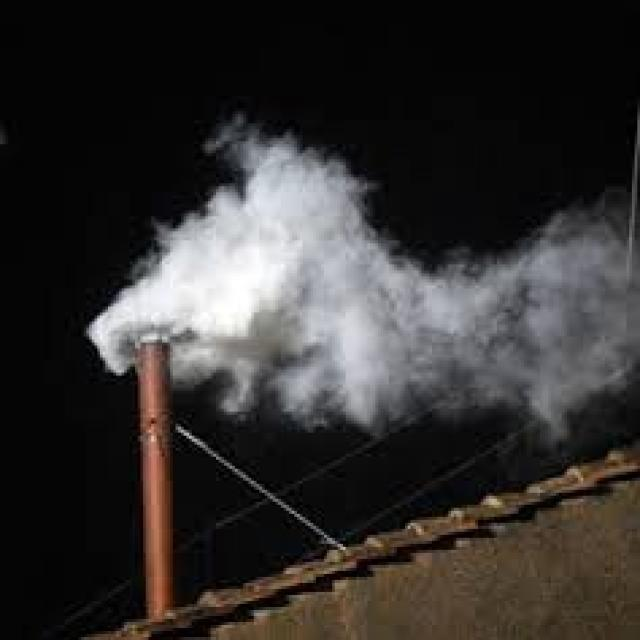Smoke: (86, 112, 640, 452)
